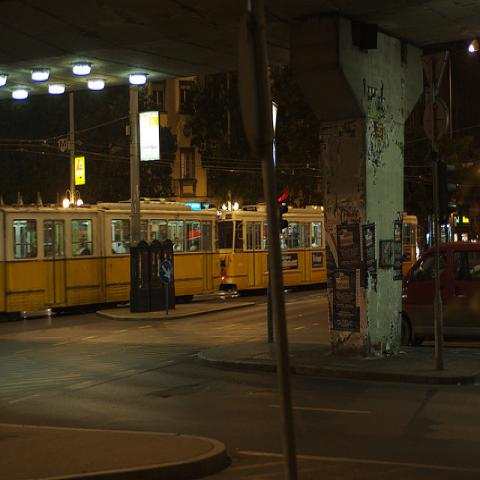car: (401, 241, 479, 348)
